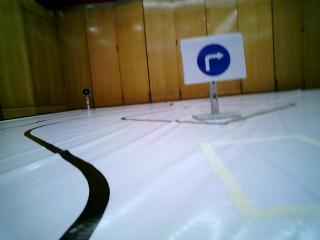right: (180, 38, 242, 80)
